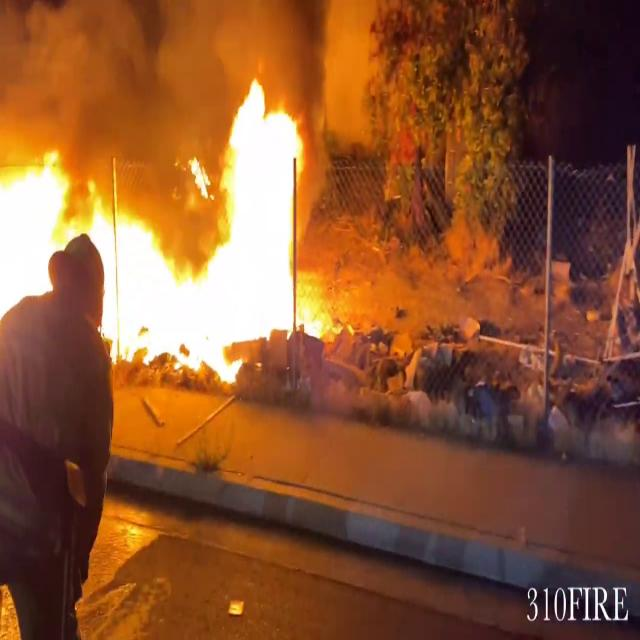Fire: (0, 110, 338, 384)
